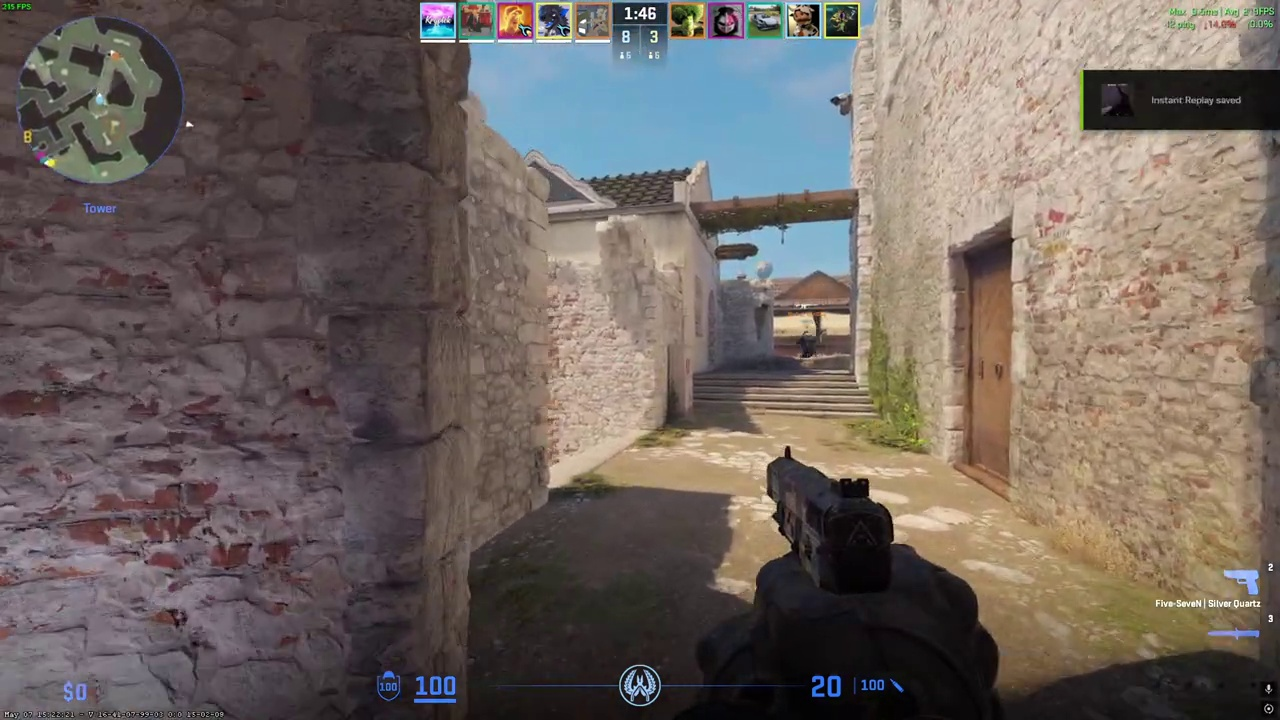CT: (798, 330, 816, 358)
